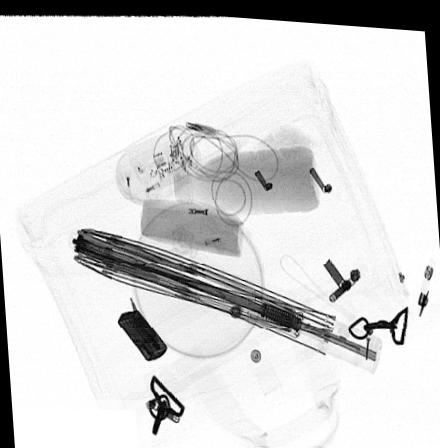Lighter: (117, 307, 168, 360)
